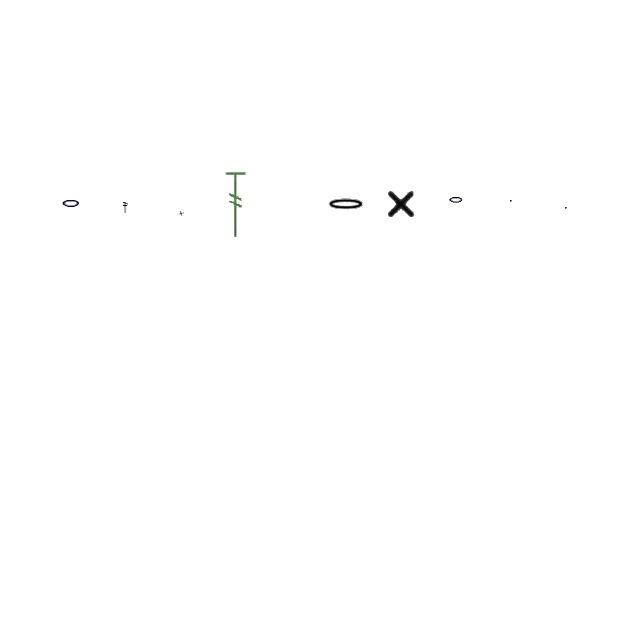chain: (326, 198, 366, 212), (61, 196, 81, 210), (448, 194, 464, 206), (510, 200, 512, 202), (565, 207, 567, 209)
double: (385, 186, 417, 220)
double treble: (124, 202, 128, 214)
enseble_chain: (178, 212, 184, 216)
fan: (223, 170, 249, 240)
